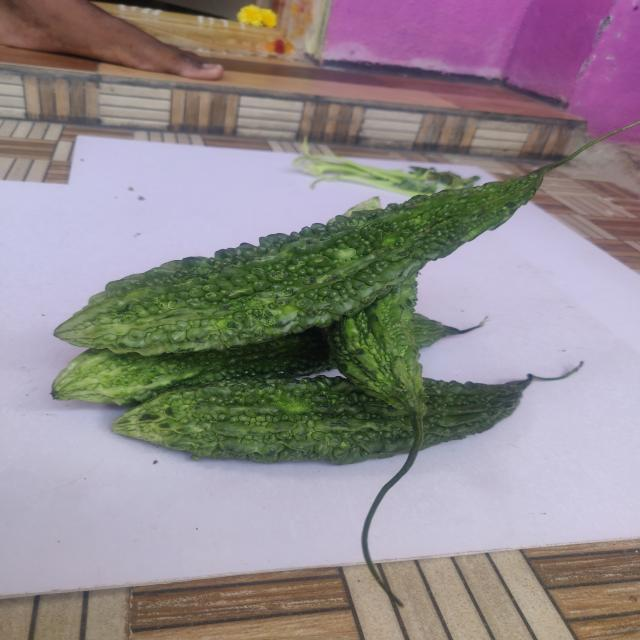Bitter Gourd: (53, 164, 557, 356), (329, 275, 426, 607), (111, 376, 412, 465), (50, 329, 333, 406), (421, 377, 536, 449)
